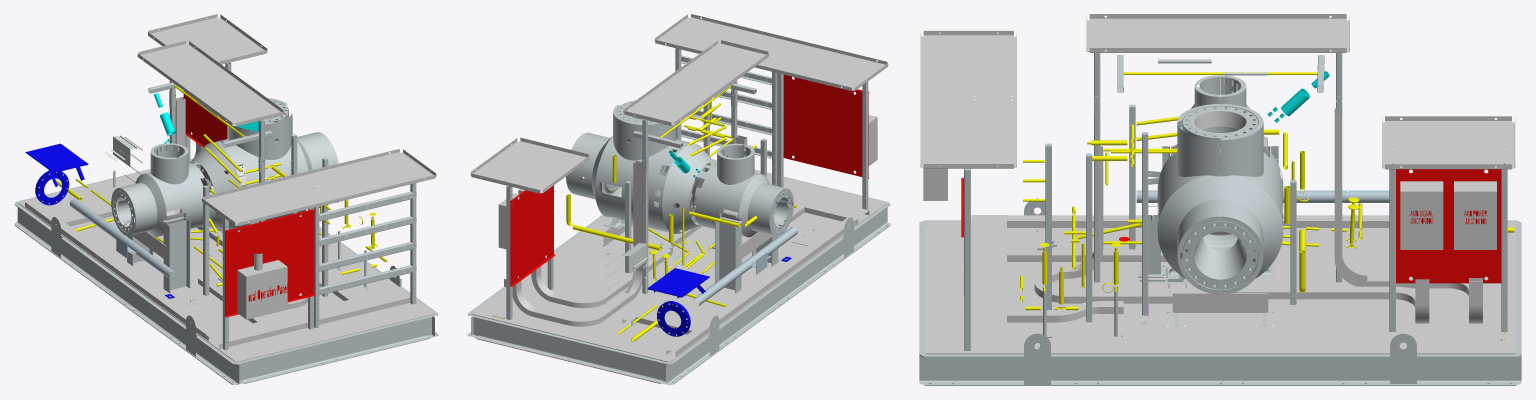
The picture shows the model from 3 angles, left to right: view 1: azimuth 30°, elevation 25°; view 2: azimuth 150°, elevation 25°; view 3: azimuth 270°, elevation 25°; orthographic projection. The views are drawn at different scales.
Parts seen in each view (by area): view 1: 177,177,177, 769139577-57_01_001_1-Couverture, 740304057_a03_1-Toit, 762232750-02_09_002_1-Cable_Tray, 255,0,0_node_1, 740304058-03_002_1-Toit, 769232984_01_002_1-IPE_300_5600_node, 769232984_02_001_1-IPE_300_2550_node, 740304058-04_001_1-Toit, 076169_002_1-Local panel, 740206545-03_001_1-Support_Instrum_1410mm_5instrum_304_304L_ (×3), Composite Part_node_53 (+12 smaller); view 2: 177,177,177, 769139577-57_01_001_1-Couverture, 762232750-02_09_002_1-Cable_Tray, 740304057_a03_1-Toit, 255,0,0_node_1, 740304058-03_002_1-Toit, 769232984_01_002_1-IPE_300_5600_node, 769232984_02_001_1-IPE_300_2550, 740304058-04_001_1-Toit, 255,0,0_node_22, Composite Part_node_53, 769232984_101_002_1-IPE 300_node (+18 smaller); view 3: 177,177,177, 762232750-02_09_002_1-Cable_Tray, 769232984_01_002_1-IPE_300_5600, 769139577-57_01_001_1-Couverture, 740304057_a03_1-Toit, 740304058-03_002_1-Toit, 740304058-04_001_1-Toit, 255,0,0_node_22, 152,170,175_node_1, 076171_001_1-AMBSIGNAL BOX, 076172_001_1-AMB POWER BOX, 769232984_18_001_1-Renfort IPE (+18 smaller).
Part boxes in pixels (bbox=[...]): 177,177,177: bbox=[18, 160, 434, 362]; 769139577-57_01_001_1-Couverture: bbox=[111, 98, 338, 236]; 740304057_a03_1-Toit: bbox=[202, 149, 436, 226]; 762232750-02_09_002_1-Cable_Tray: bbox=[25, 97, 410, 349]; 255,0,0_node_1: bbox=[225, 209, 314, 317]; 740304058-03_002_1-Toit: bbox=[137, 40, 283, 126]; 769232984_01_002_1-IPE_300_5600_node: bbox=[14, 200, 244, 385]; 769232984_02_001_1-IPE_300_2550_node: bbox=[238, 316, 431, 383]; 740304058-04_001_1-Toit: bbox=[148, 14, 267, 64]; 076169_002_1-Local panel: bbox=[237, 253, 287, 319]; 740206545-03_001_1-Support_Instrum_1410mm_5instrum_304_304L_ (×3): bbox=[315, 191, 416, 295]; Composite Part_node_53: bbox=[25, 143, 174, 298]; 177,177,177: bbox=[471, 160, 886, 362]; 769139577-57_01_001_1-Couverture: bbox=[566, 100, 793, 237]; 762232750-02_09_002_1-Cable_Tray: bbox=[512, 135, 869, 356]; 740304057_a03_1-Toit: bbox=[654, 14, 888, 90]; 255,0,0_node_1: bbox=[783, 74, 869, 178]; 740304058-03_002_1-Toit: bbox=[623, 40, 769, 125]; 769232984_01_002_1-IPE_300_5600_node: bbox=[661, 200, 890, 385]; 769232984_02_001_1-IPE_300_2550: bbox=[473, 316, 666, 383]; 740304058-04_001_1-Toit: bbox=[470, 137, 589, 193]; 255,0,0_node_22: bbox=[510, 185, 555, 286]; Composite Part_node_53: bbox=[647, 256, 791, 336]; 769232984_101_002_1-IPE 300_node: bbox=[715, 217, 741, 293]; 177,177,177: bbox=[924, 221, 1516, 354]; 762232750-02_09_002_1-Cable_Tray: bbox=[971, 108, 1482, 348]; 769232984_01_002_1-IPE_300_5600: bbox=[919, 350, 1521, 385]; 769139577-57_01_001_1-Couverture: bbox=[1157, 75, 1283, 294]; 740304057_a03_1-Toit: bbox=[920, 30, 1016, 168]; 740304058-03_002_1-Toit: bbox=[1086, 14, 1349, 52]; 740304058-04_001_1-Toit: bbox=[1382, 116, 1515, 169]; 255,0,0_node_22: bbox=[1396, 169, 1501, 283]; 152,170,175_node_1: bbox=[1166, 106, 1274, 289]; 076171_001_1-AMBSIGNAL BOX: bbox=[1400, 181, 1443, 249]; 076172_001_1-AMB POWER BOX: bbox=[1454, 181, 1496, 249]; 769232984_18_001_1-Renfort IPE: bbox=[1172, 293, 1268, 312].
Bounding box in the file's own units: 300 × 283 × 560.
